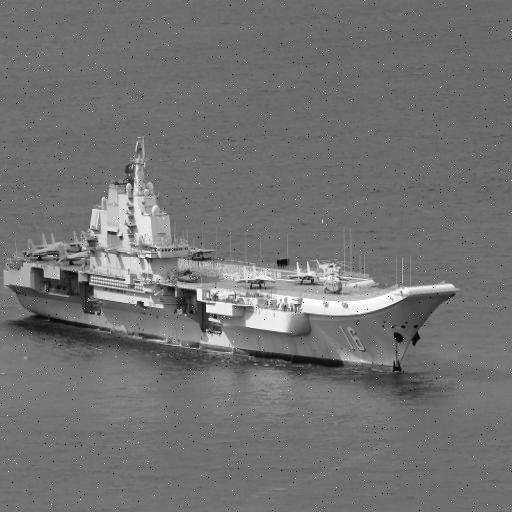Portanaves: (1, 128, 467, 389)
